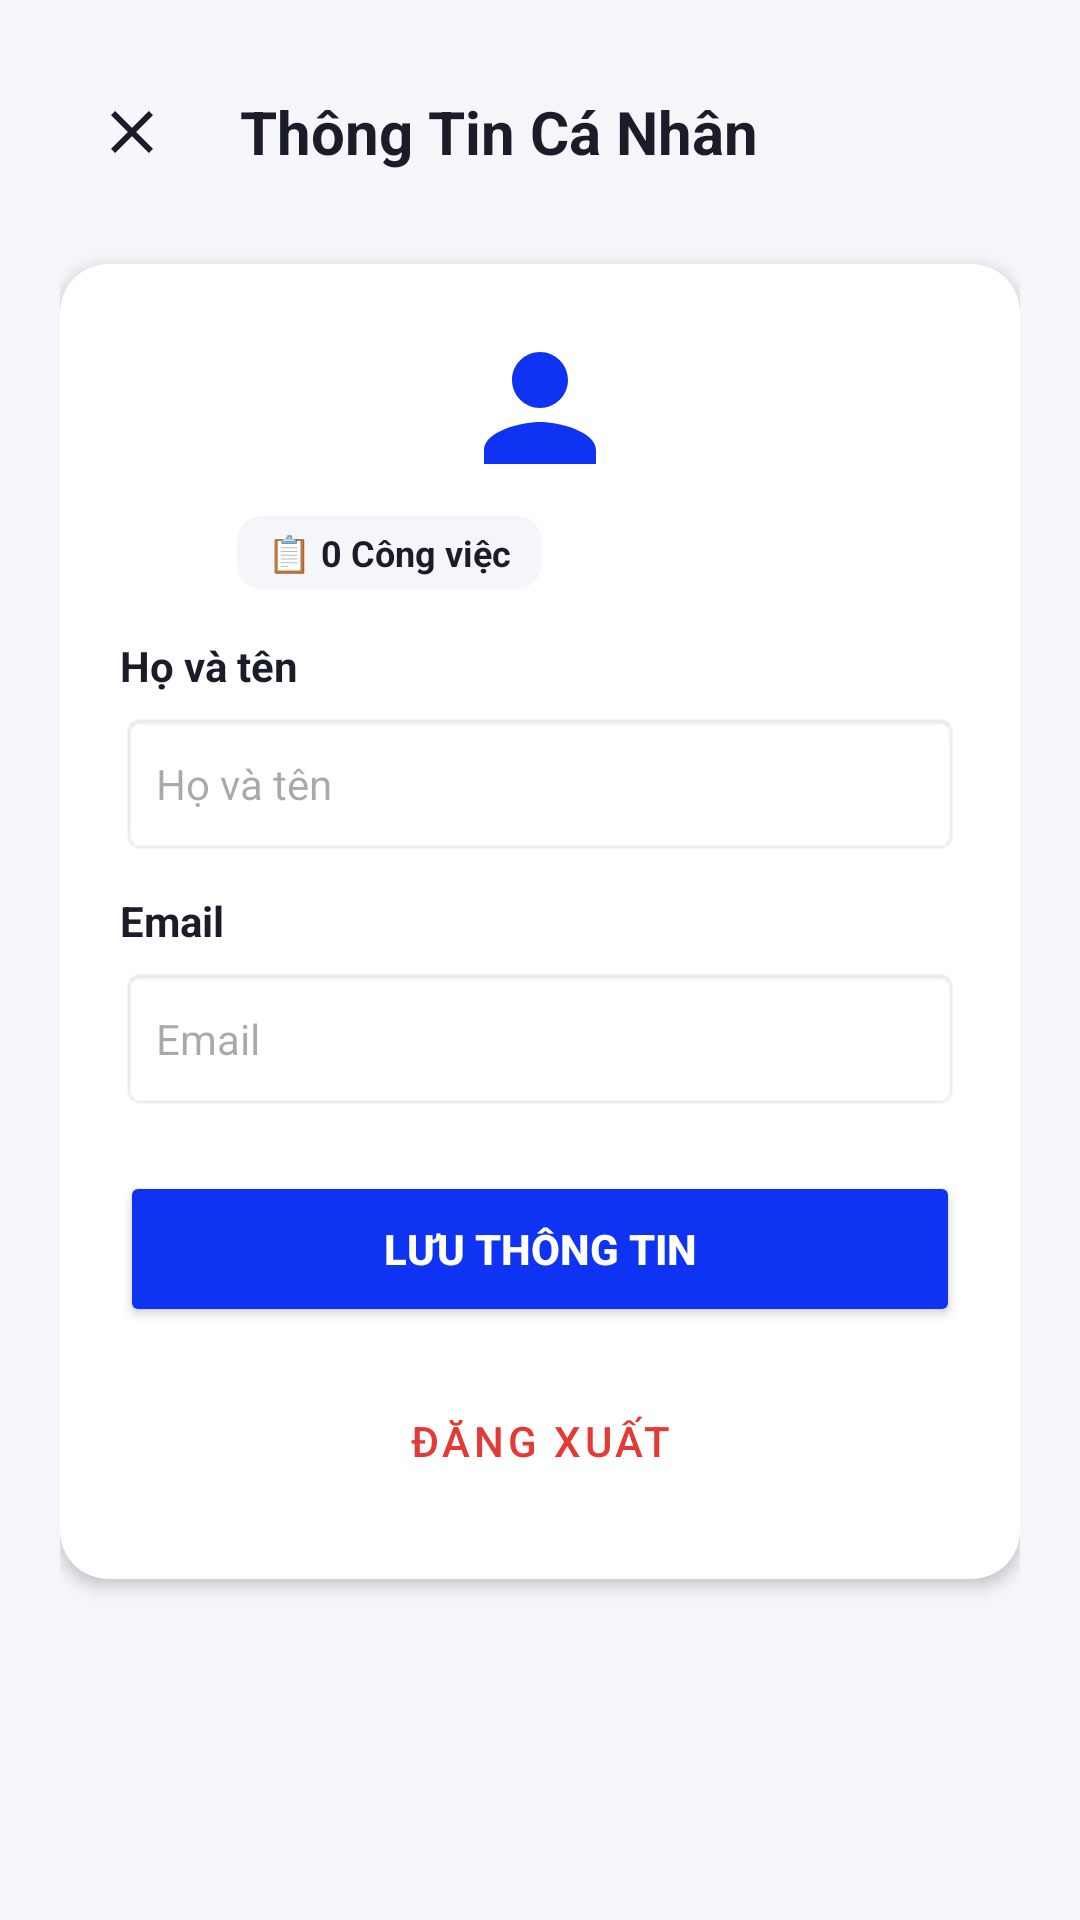

Where to tap for icons on this 1080w x 1920h app screen, as (x,y):
Close: (132,132)
